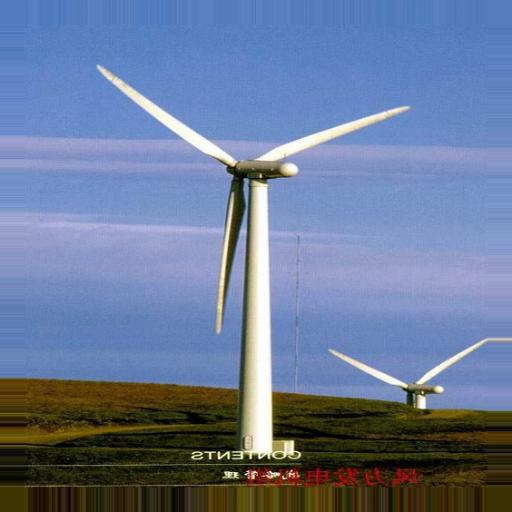wind turbine: (95, 63, 410, 455)
